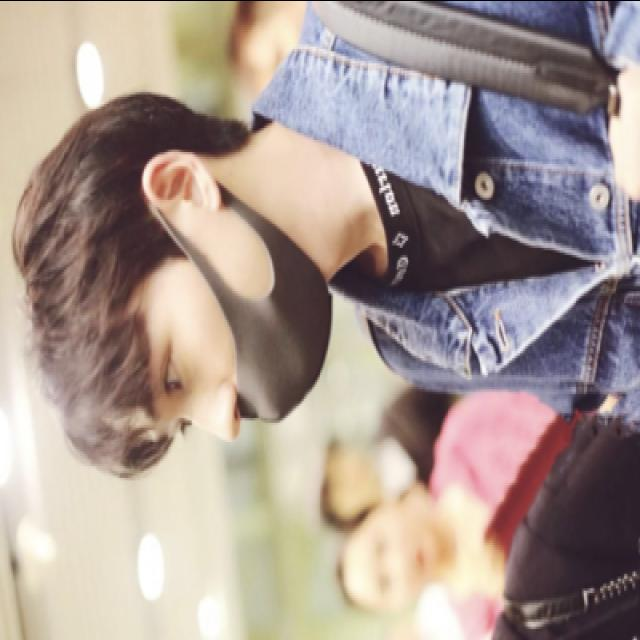no_mask: (153, 201, 330, 439)
